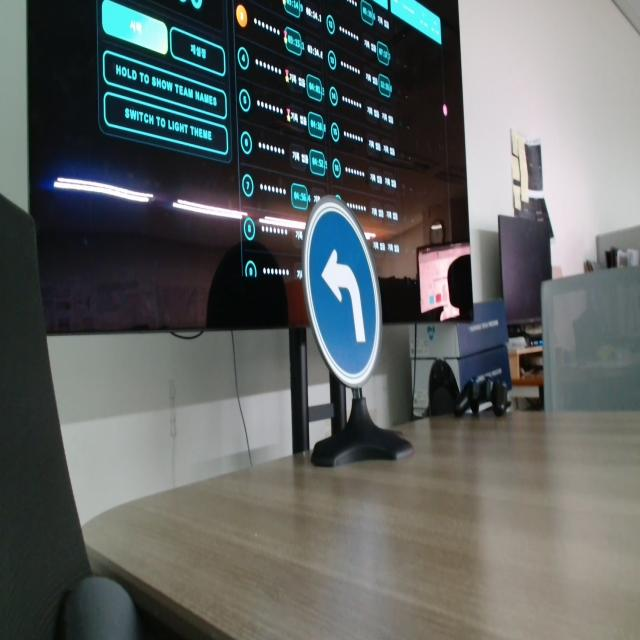left_direction: (289, 190, 404, 404)
